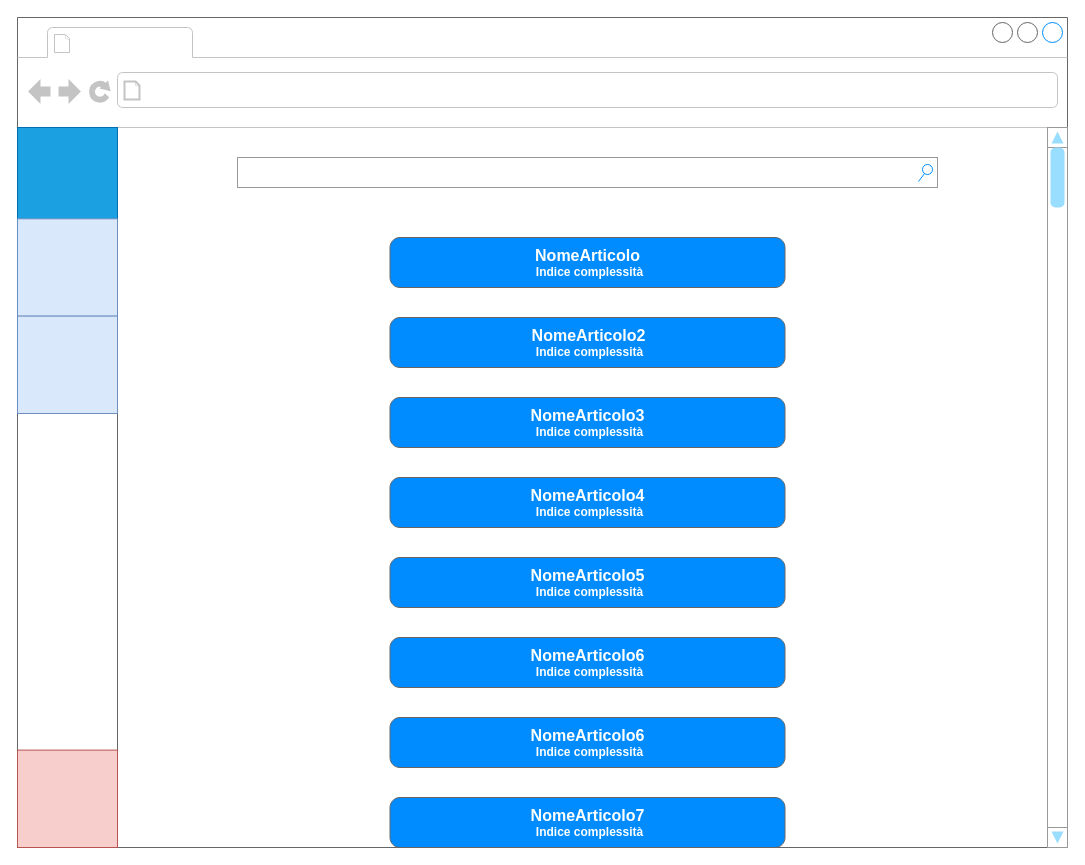
Image size: 1085x865. Some labels were removed from this diagram. The shapes that lost their labels are listed below. From the top down, each one's centre as x and y in pixels, then its label:
(x=132, y=42): DashBoard
(x=272, y=90): https://www.default.com/dashboard
(x=587, y=172): Search
